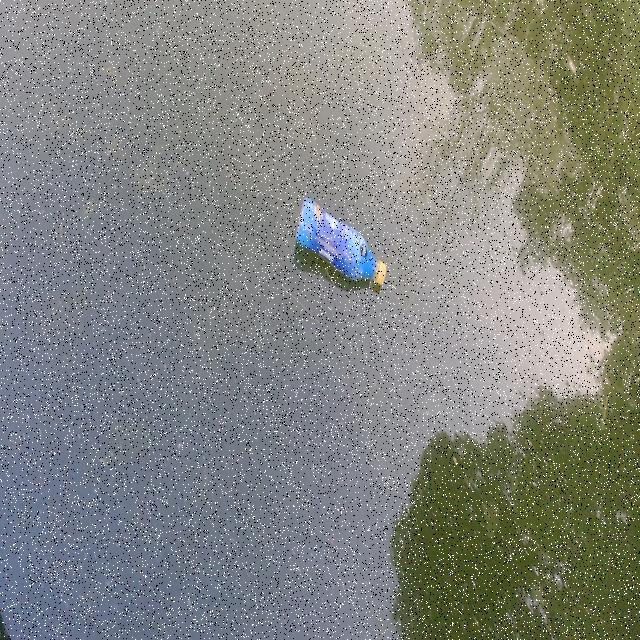Bottle: (292, 190, 388, 289)
